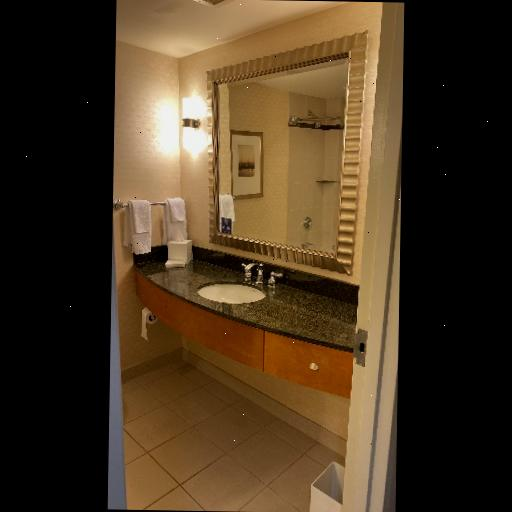clean_floor: (120, 353, 344, 512)
clean_sink: (131, 233, 362, 399)
folded_towel: (125, 198, 152, 253), (162, 198, 190, 244)
